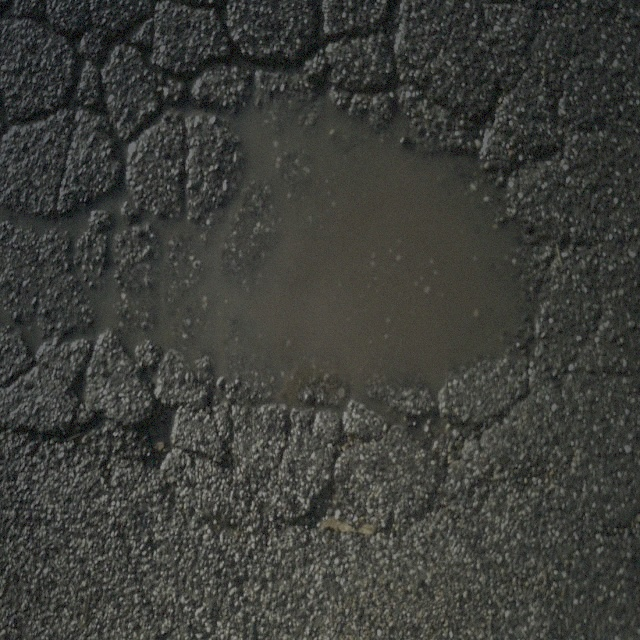pothole: (151, 55, 555, 469)
